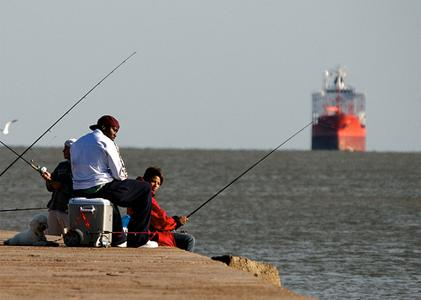person: (127, 167, 197, 254)
